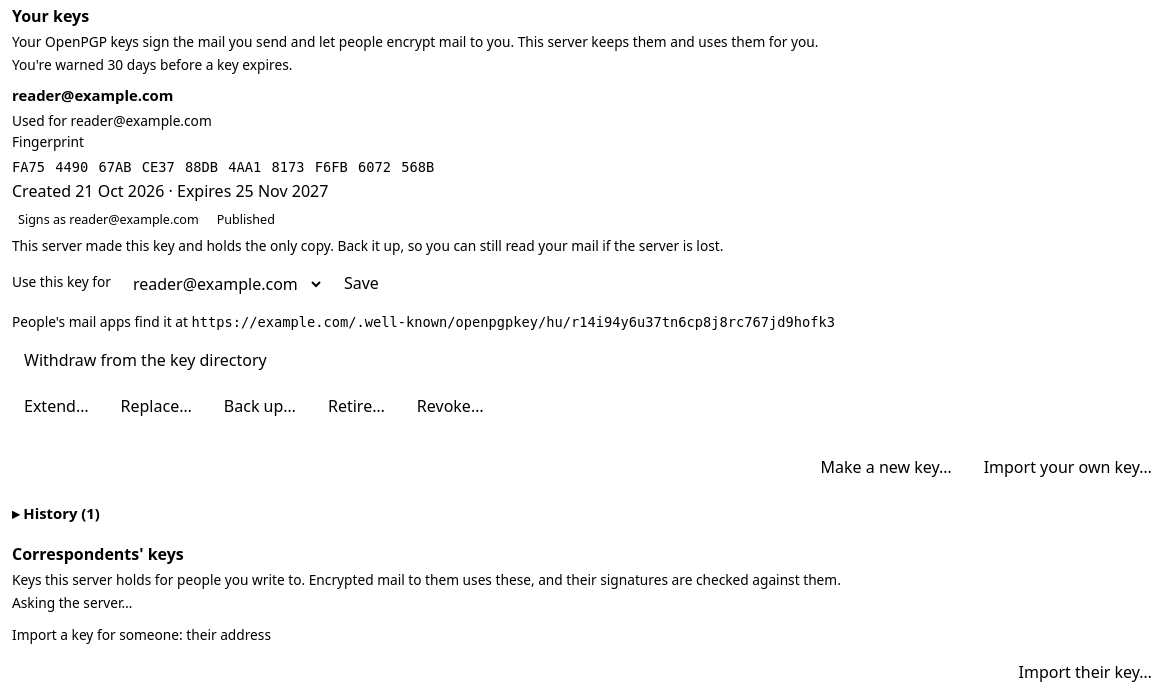
Test: your keys' History (#815) › a retirement that was not recorded says so, and invents no date
The image size is (1176, 694).
Click the button with class "key-history-toggle" at (56, 514), box [12,499,100,529]
(page scrolled)
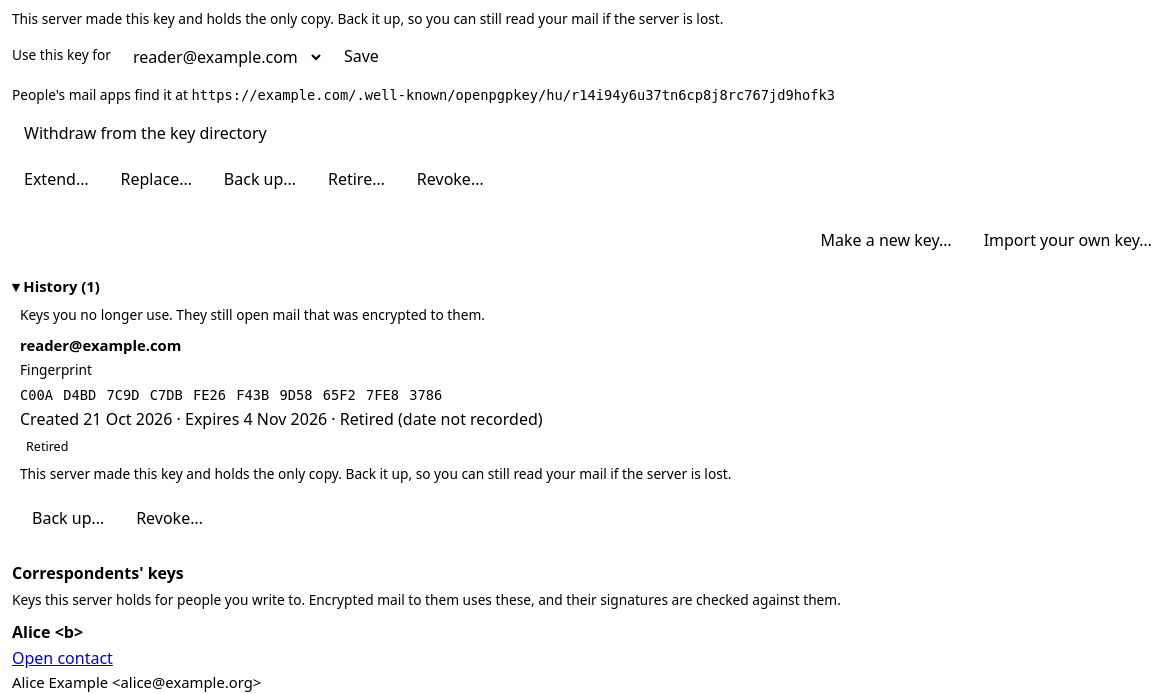
Expected: the list item with class "own-key" shows "Retired (date not recorded)", [340,408,543,430]
